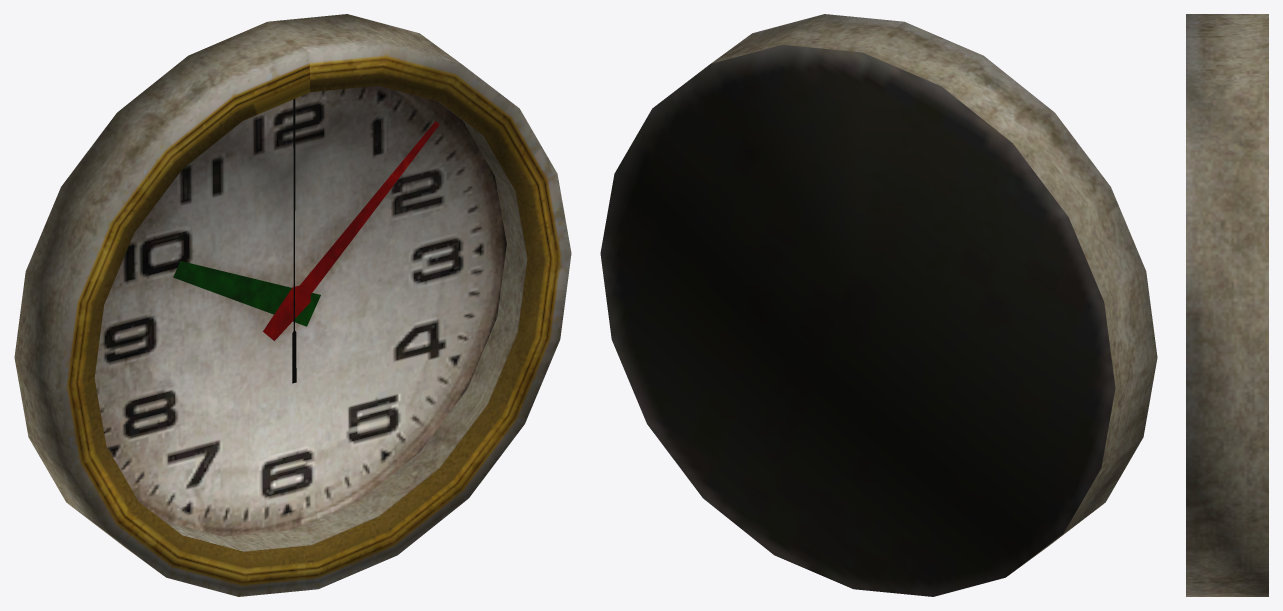
The model's file is clock02.FBX.
The picture shows the model from 3 angles, left to right: view 1: azimuth 30°, elevation 25°; view 2: azimuth 150°, elevation 25°; view 3: azimuth 270°, elevation 25°; orthographic projection.
Visible parts, largest first — view 1: SM_Clock02; view 2: SM_Clock02; view 3: SM_Clock02.
Part boxes in pixels (<box>): SM_Clock02: <box>14,14,571,596</box>; SM_Clock02: <box>600,14,1157,596</box>; SM_Clock02: <box>1186,14,1268,596</box>.
Bounding box in the file's own units: 31.04 × 31.04 × 4.39.
Materials: 1 (1 with a texture image).
